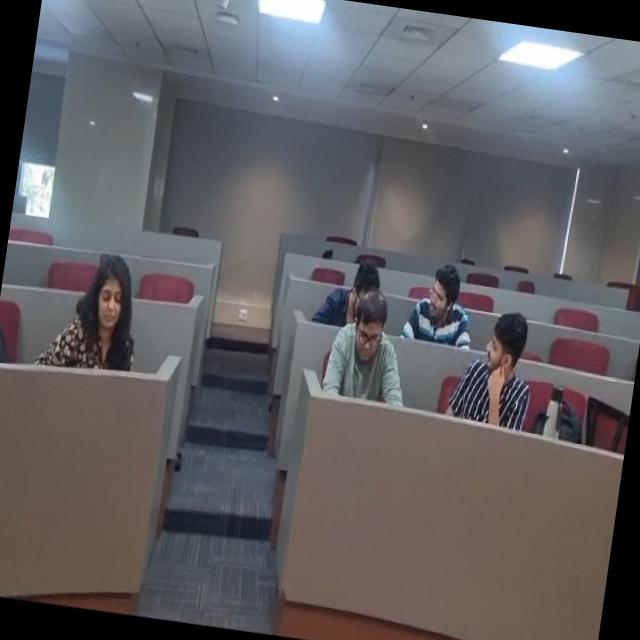cheating: (450, 292, 543, 446), (332, 244, 392, 318), (420, 260, 474, 341)
non-cheating: (61, 253, 148, 377), (337, 281, 409, 410)
